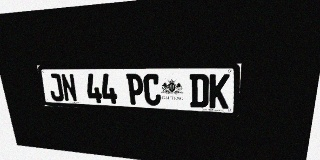4: (100, 74, 118, 104), (85, 74, 103, 103)
C: (143, 74, 161, 106)
D: (190, 74, 209, 108)
J: (47, 73, 64, 101)
K: (209, 74, 230, 109)
N: (60, 74, 78, 102)
P: (126, 74, 144, 105)
